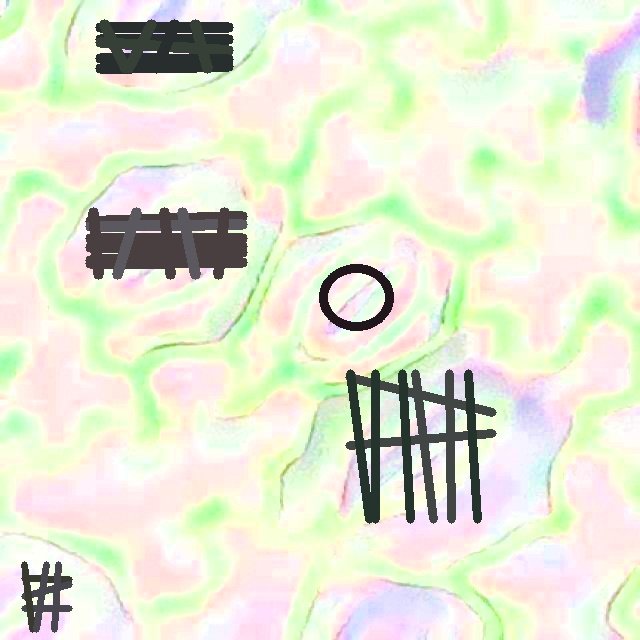open: (345, 369, 496, 523), (86, 207, 247, 279), (96, 20, 232, 72), (319, 264, 393, 330), (21, 561, 72, 632)
